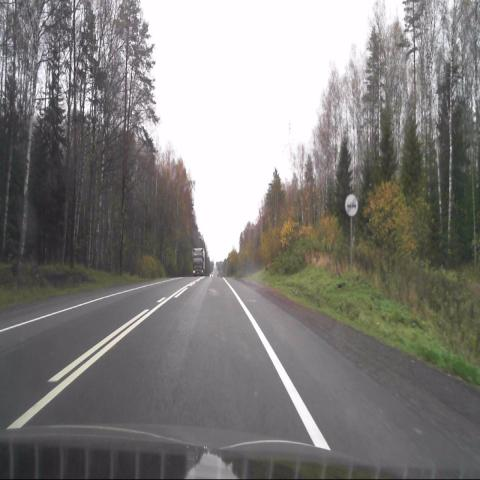3_21: (345, 193, 358, 217)
